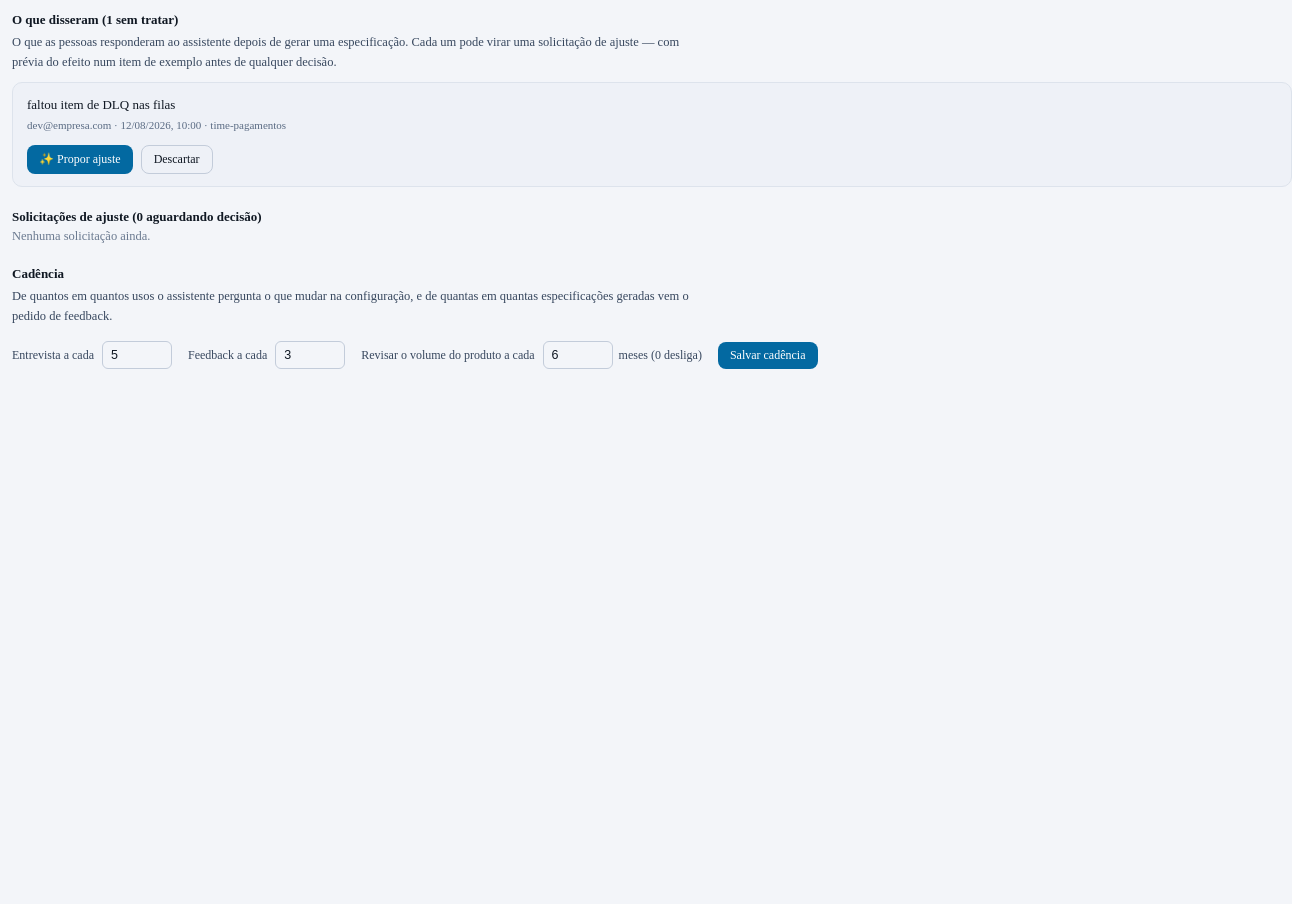
Test: PdcaTab — a jornada do PDCA (SPEC-45) › tecnologia que o componente não usa avisa que NADA muda — o erro fácil de cometer
Click the button with test id "propor-f1". click: (80, 159)
box: [27, 144, 133, 174]
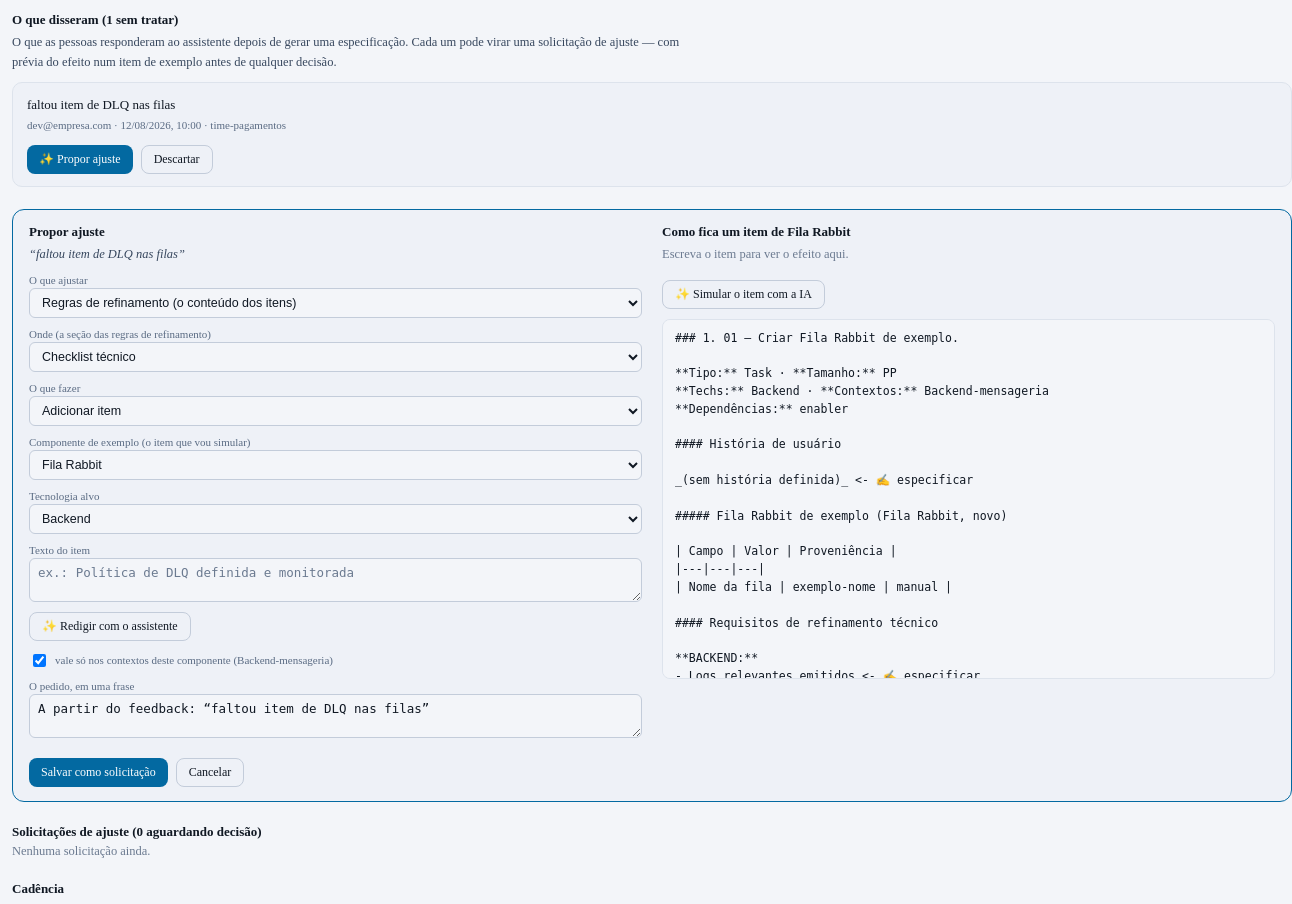
Type "Acessibilidade verificada" into the text box named "Texto do item". click: (336, 580)
box: [29, 558, 642, 602]
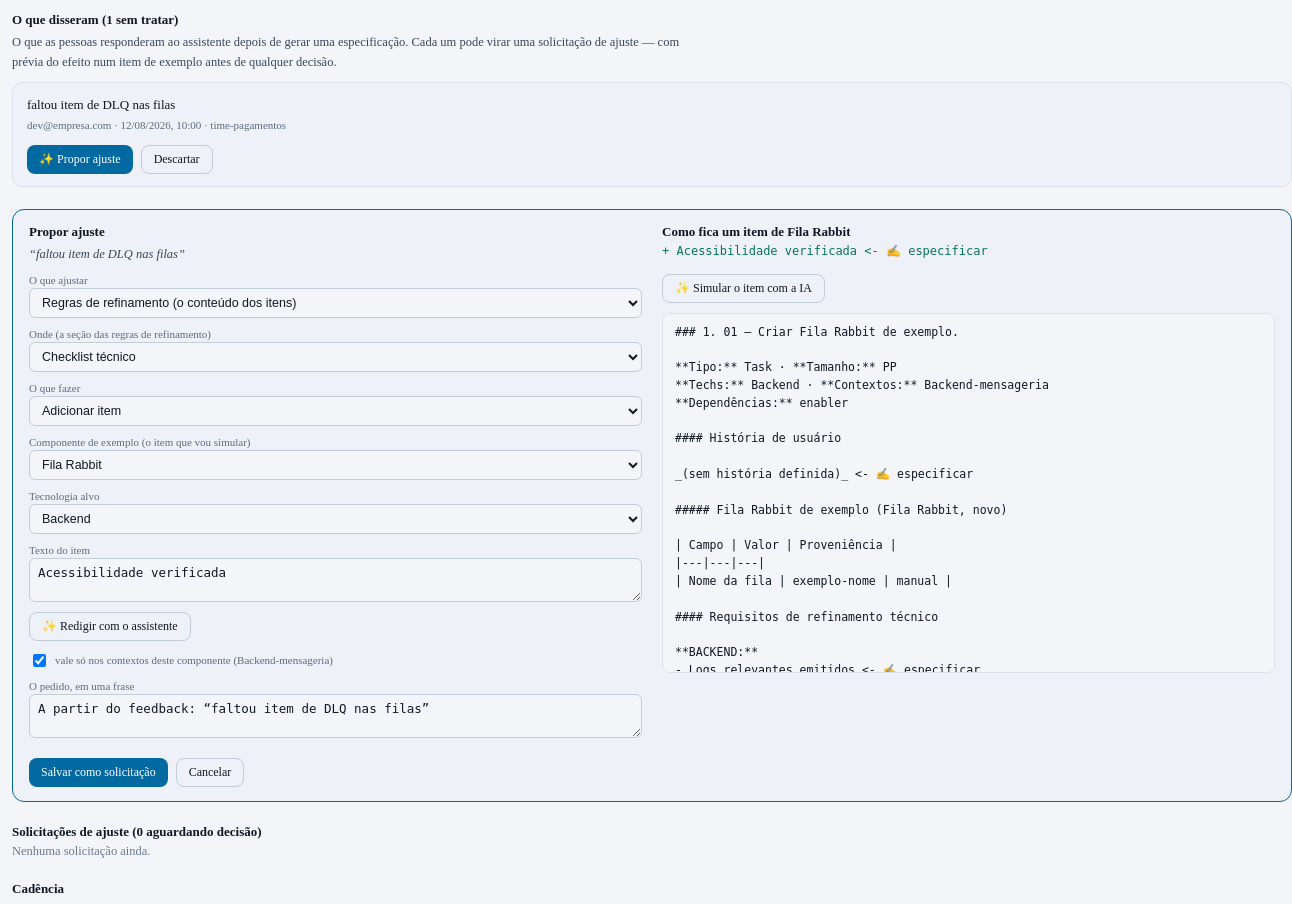
Select "Frontend" in the dropdown named "Tecnologia alvo". click: (336, 518)
box: [29, 504, 642, 534]
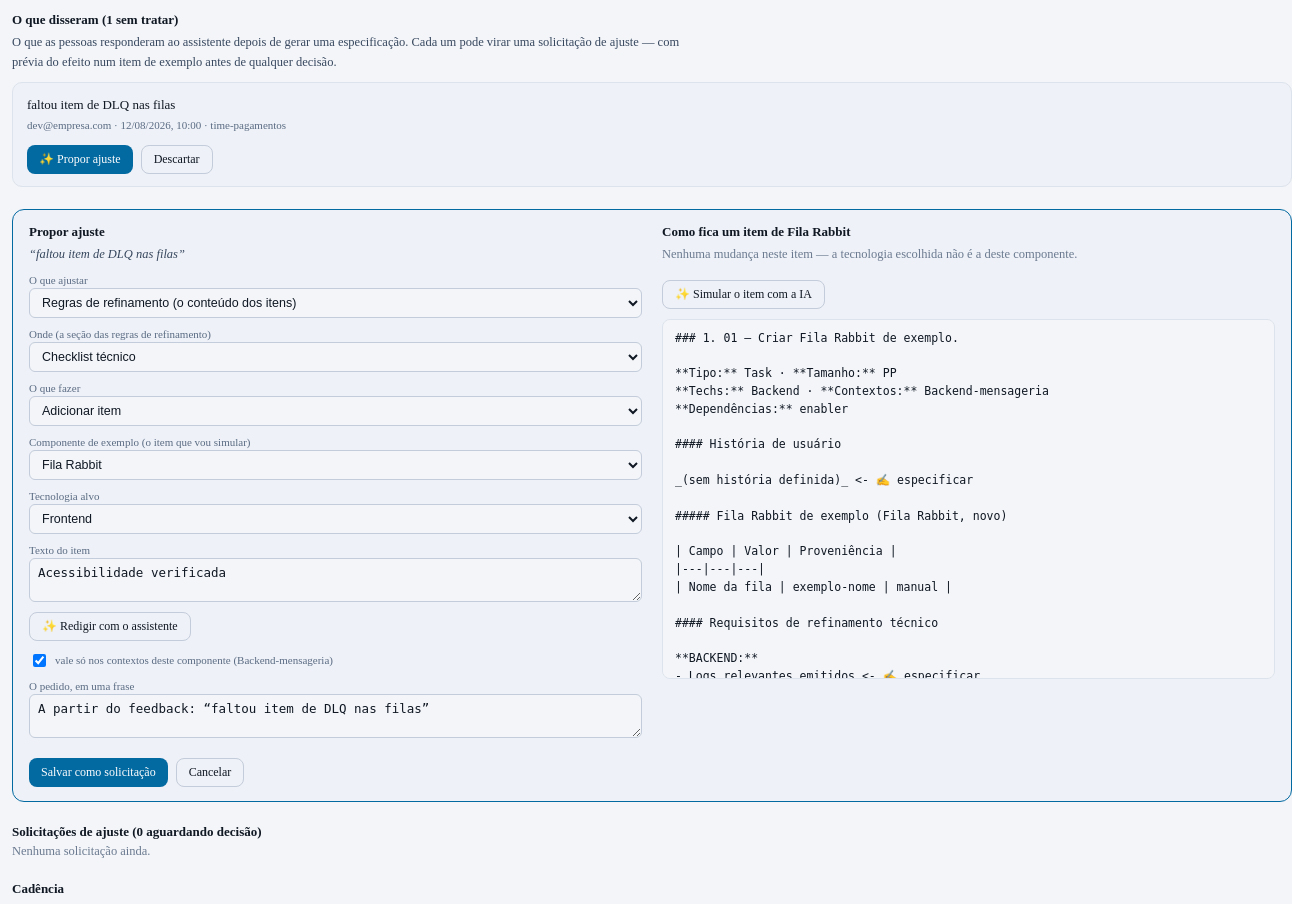
Now the text with test id "previa-sem-efeito" shows "não é a deste componente", box [662, 246, 1078, 260]
